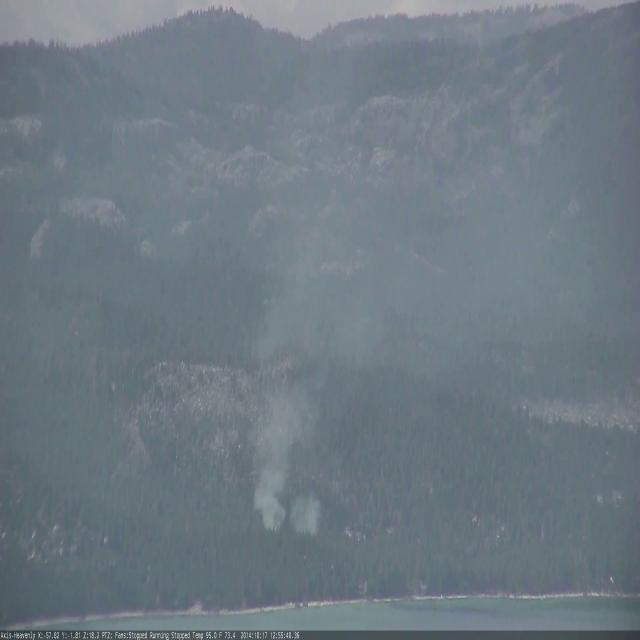smoke: (254, 48, 587, 534)
